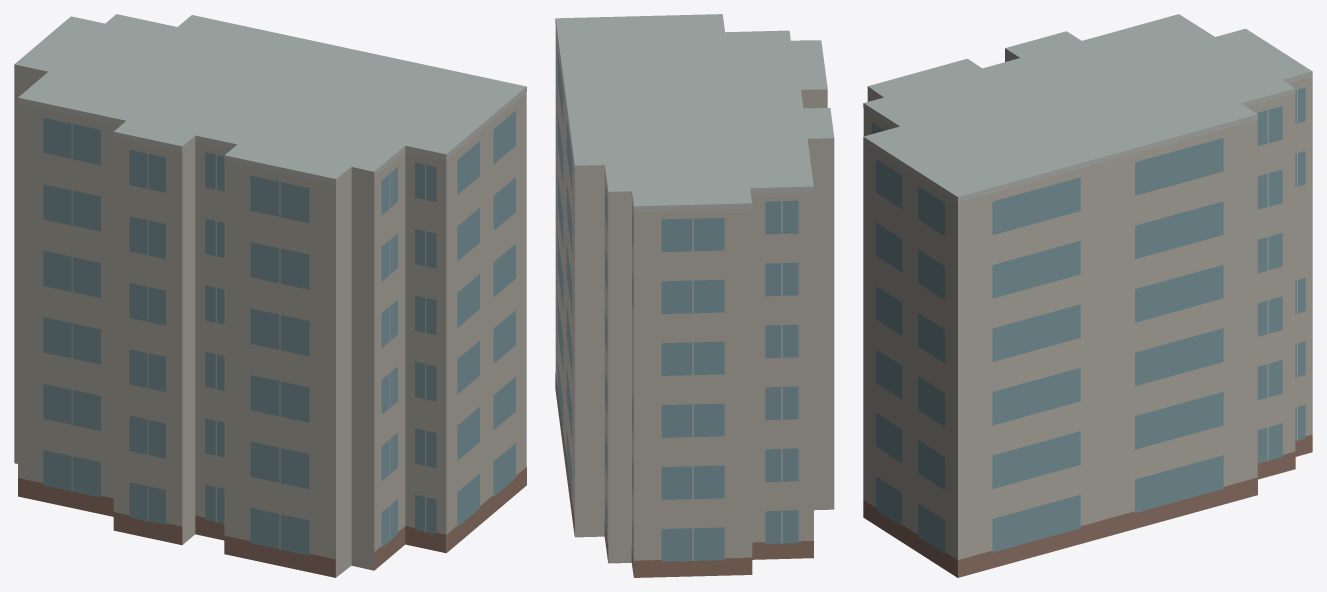
The model's file is survey-upis-32749911.glb.
3 renders of one model, left to right at view 1: azimuth 30°, elevation 25°; view 2: azimuth 150°, elevation 25°; view 3: azimuth 270°, elevation 25°, orthographic. The views are drawn at different scales.
Parts seen in each view (by area): view 1: survey-upis-32749911.tmp; view 2: survey-upis-32749911.tmp; view 3: survey-upis-32749911.tmp.
Boxes of the visible parts, box(x1,y1,x2,y2) form: survey-upis-32749911.tmp: box(14, 14, 526, 577); survey-upis-32749911.tmp: box(555, 14, 834, 577); survey-upis-32749911.tmp: box(863, 14, 1312, 577).
Bounding box in the file's own units: 17.85 × 17.3 × 18.51.
